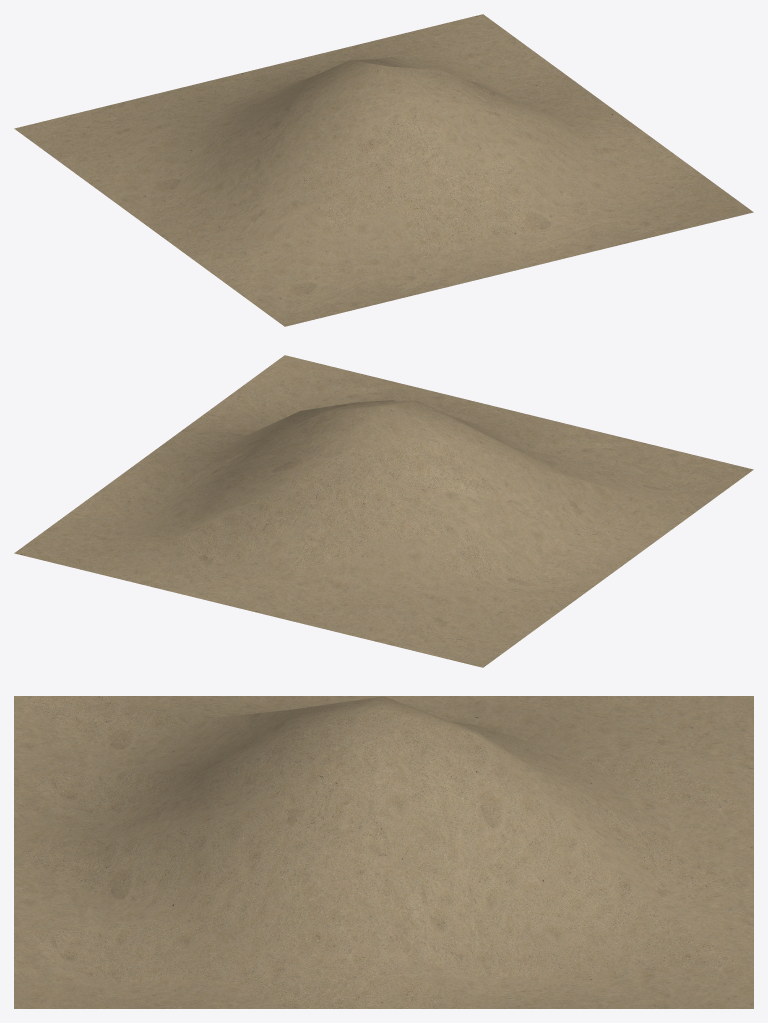
File: SandMont.fbx
The picture shows the model from 3 angles, top to bottom: view 1: azimuth 30°, elevation 25°; view 2: azimuth 150°, elevation 25°; view 3: azimuth 270°, elevation 25°; orthographic projection. The views are drawn at different scales.
Visible parts, largest first — view 1: SandMont; view 2: SandMont; view 3: SandMont.
Boxes of the visible parts, x1,y1,x2,y2 form: SandMont: (14, 14, 753, 326); SandMont: (14, 355, 753, 667); SandMont: (14, 696, 753, 1008).
Size of the model in its own units: 1600 by 372 by 1600.
